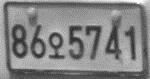1: (123, 24, 136, 60)
4: (104, 24, 122, 60)
5: (66, 24, 84, 60)
6: (29, 23, 46, 59)
7: (84, 24, 102, 61)
8: (11, 23, 28, 58)
오: (47, 31, 65, 60)
